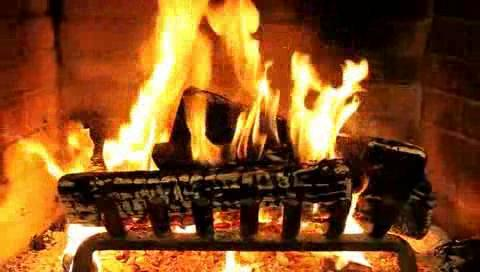fire: (16, 0, 480, 185)
